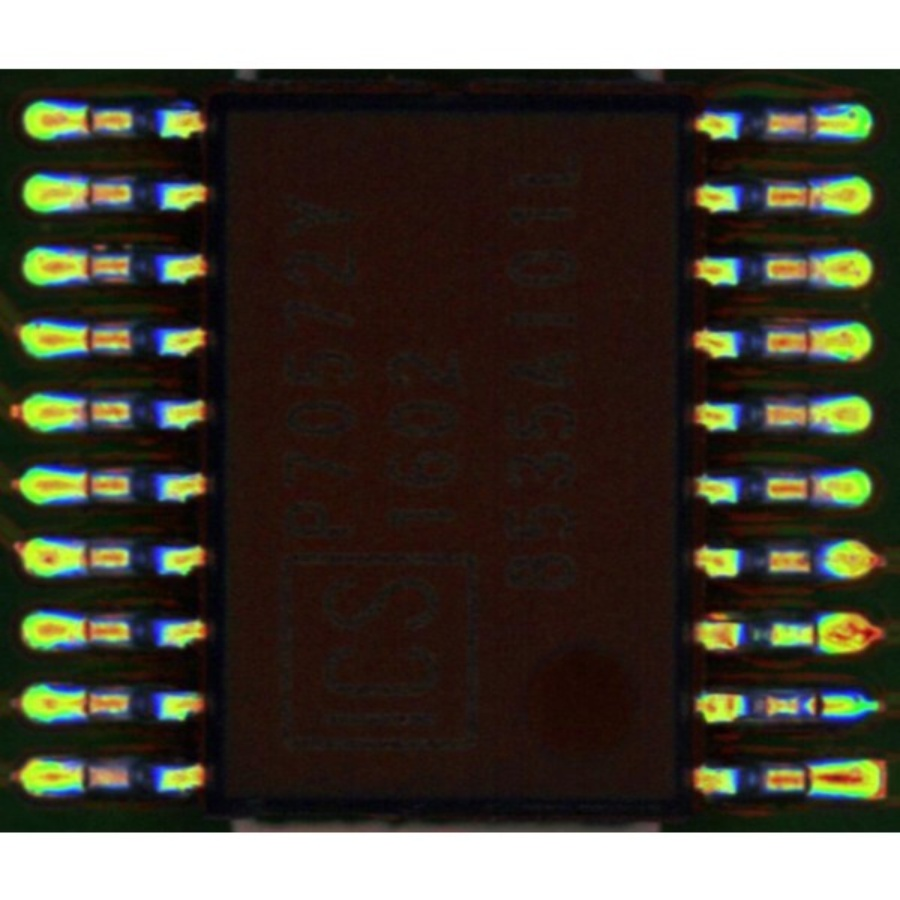Bad_podu: (61, 477, 114, 494), (785, 773, 848, 787), (787, 335, 843, 350), (64, 403, 111, 420), (797, 699, 853, 713), (789, 117, 842, 131), (69, 113, 110, 128), (63, 696, 108, 709)
